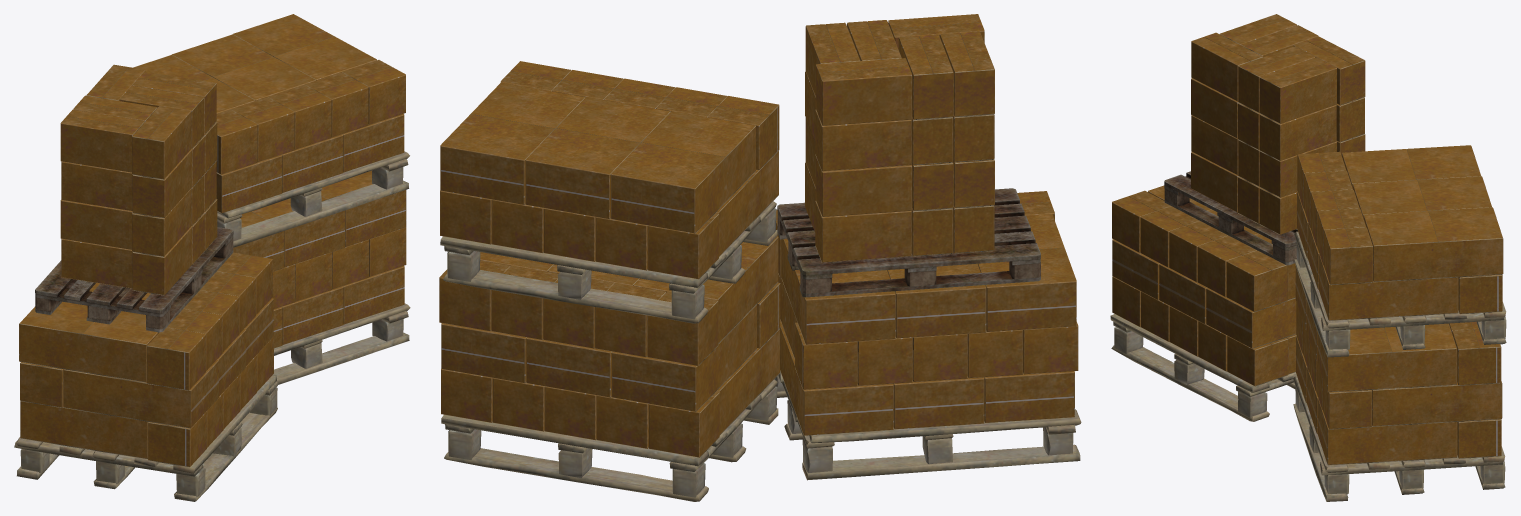
File: BoxesStackedSmall.fbx
3 views of the same model, side by side, from view 1: azimuth 30°, elevation 25°; view 2: azimuth 150°, elevation 25°; view 3: azimuth 270°, elevation 25° (orthographic). The views are drawn at different scales.
Parts seen in each view (by area): view 1: MAP_Warehouse_Main|SM_MERGED_SM_Pallet231|Dupli|3206; view 2: MAP_Warehouse_Main|SM_MERGED_SM_Pallet231|Dupli|3206; view 3: MAP_Warehouse_Main|SM_MERGED_SM_Pallet231|Dupli|3206.
Boxes of the visible parts, x1=… form: MAP_Warehouse_Main|SM_MERGED_SM_Pallet231|Dupli|3206: x1=14, y1=14, x2=410, y2=501; MAP_Warehouse_Main|SM_MERGED_SM_Pallet231|Dupli|3206: x1=439, y1=14, x2=1081, y2=501; MAP_Warehouse_Main|SM_MERGED_SM_Pallet231|Dupli|3206: x1=1110, y1=14, x2=1506, y2=501.
Bounding box in the file's own units: 294 × 212 × 243.
3 materials, 3 textured.
